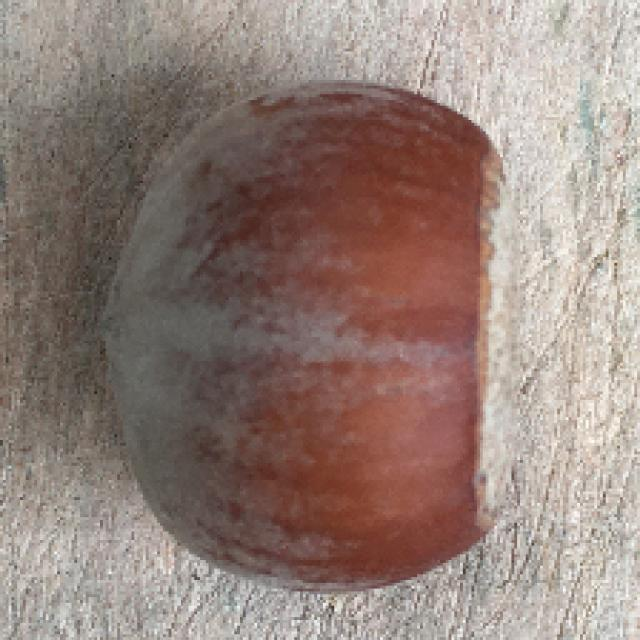qualityHazelnut: (94, 77, 536, 592)
